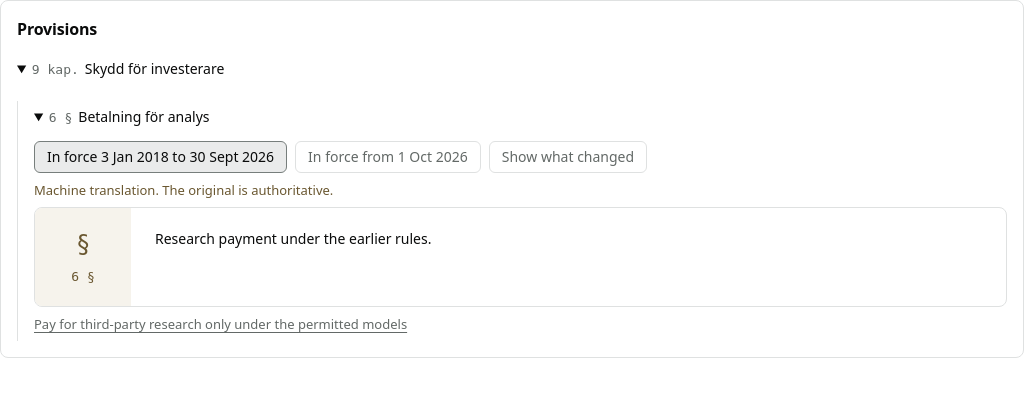
ProvisionTree › chooses a version by its own chip, never by relying on today, and shows its transitional note
This screenshot has width=1024, height=401.
Expected: the heading "6 §Betalning för analys" is shown, top-left (49, 107), bottom-right (210, 126)
Click the button "In force from 1 Oct 2026". click: (388, 157)
box: top-left (295, 141), bottom-right (481, 173)
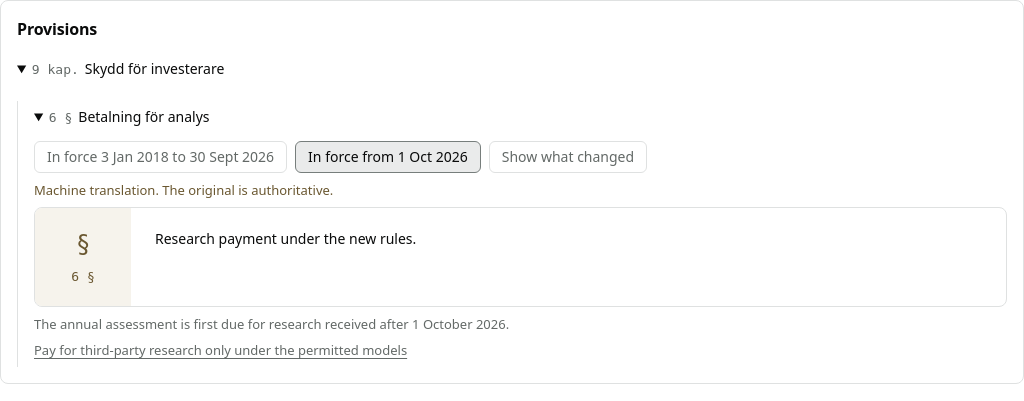
Expected: the text "Research payment under the new rules." is shown, top-left (155, 229), bottom-right (416, 248)
Expected: the text "The annual assessment is first due for research received after 1 October 2026." is shown, top-left (34, 315), bottom-right (509, 333)
Expected: the text "Research payment under the earlier rules." is gone
